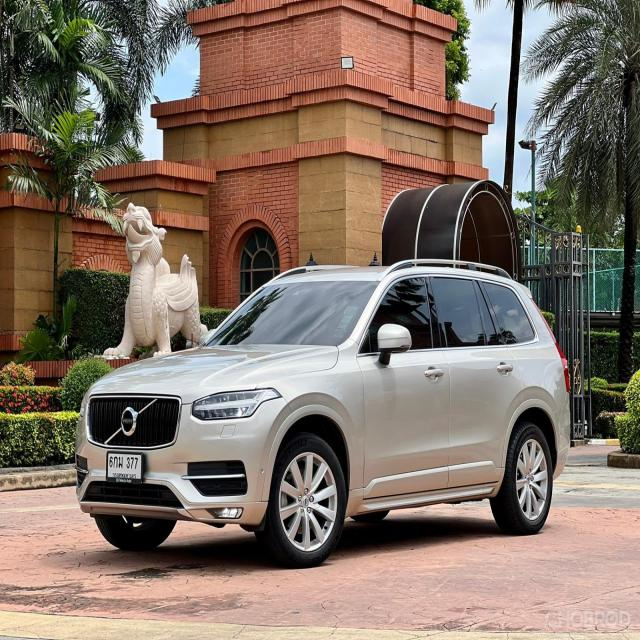license_plate: (104, 446, 148, 489)
